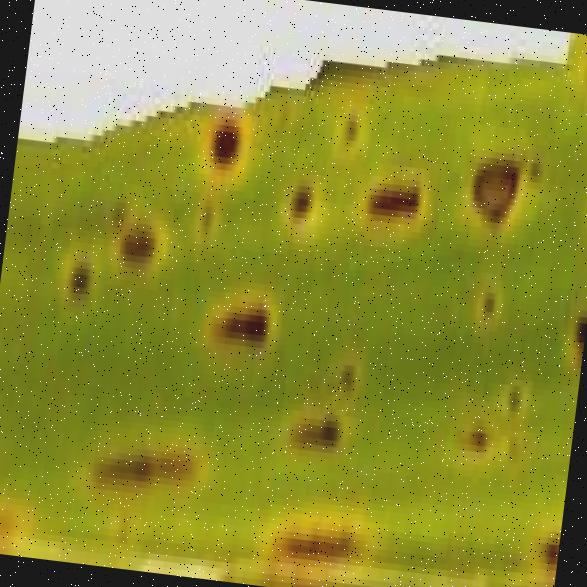Brown_Spot: (76, 410, 209, 494), (452, 128, 554, 234), (260, 496, 380, 586), (196, 264, 280, 368), (186, 76, 257, 198), (278, 376, 361, 461), (274, 120, 326, 245), (360, 155, 436, 233), (325, 312, 368, 404), (114, 208, 168, 277), (53, 220, 95, 300), (468, 264, 512, 326), (328, 86, 362, 166), (0, 466, 29, 548), (556, 282, 586, 360), (497, 352, 530, 412), (533, 510, 560, 582), (460, 398, 491, 458), (578, 169, 587, 247), (580, 40, 587, 86)
